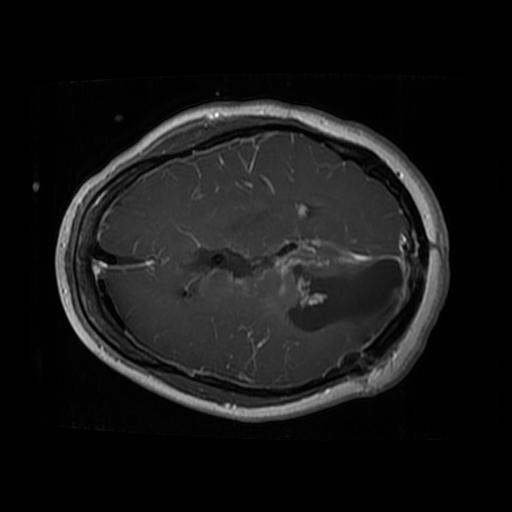glioma: (171, 236, 404, 337)
